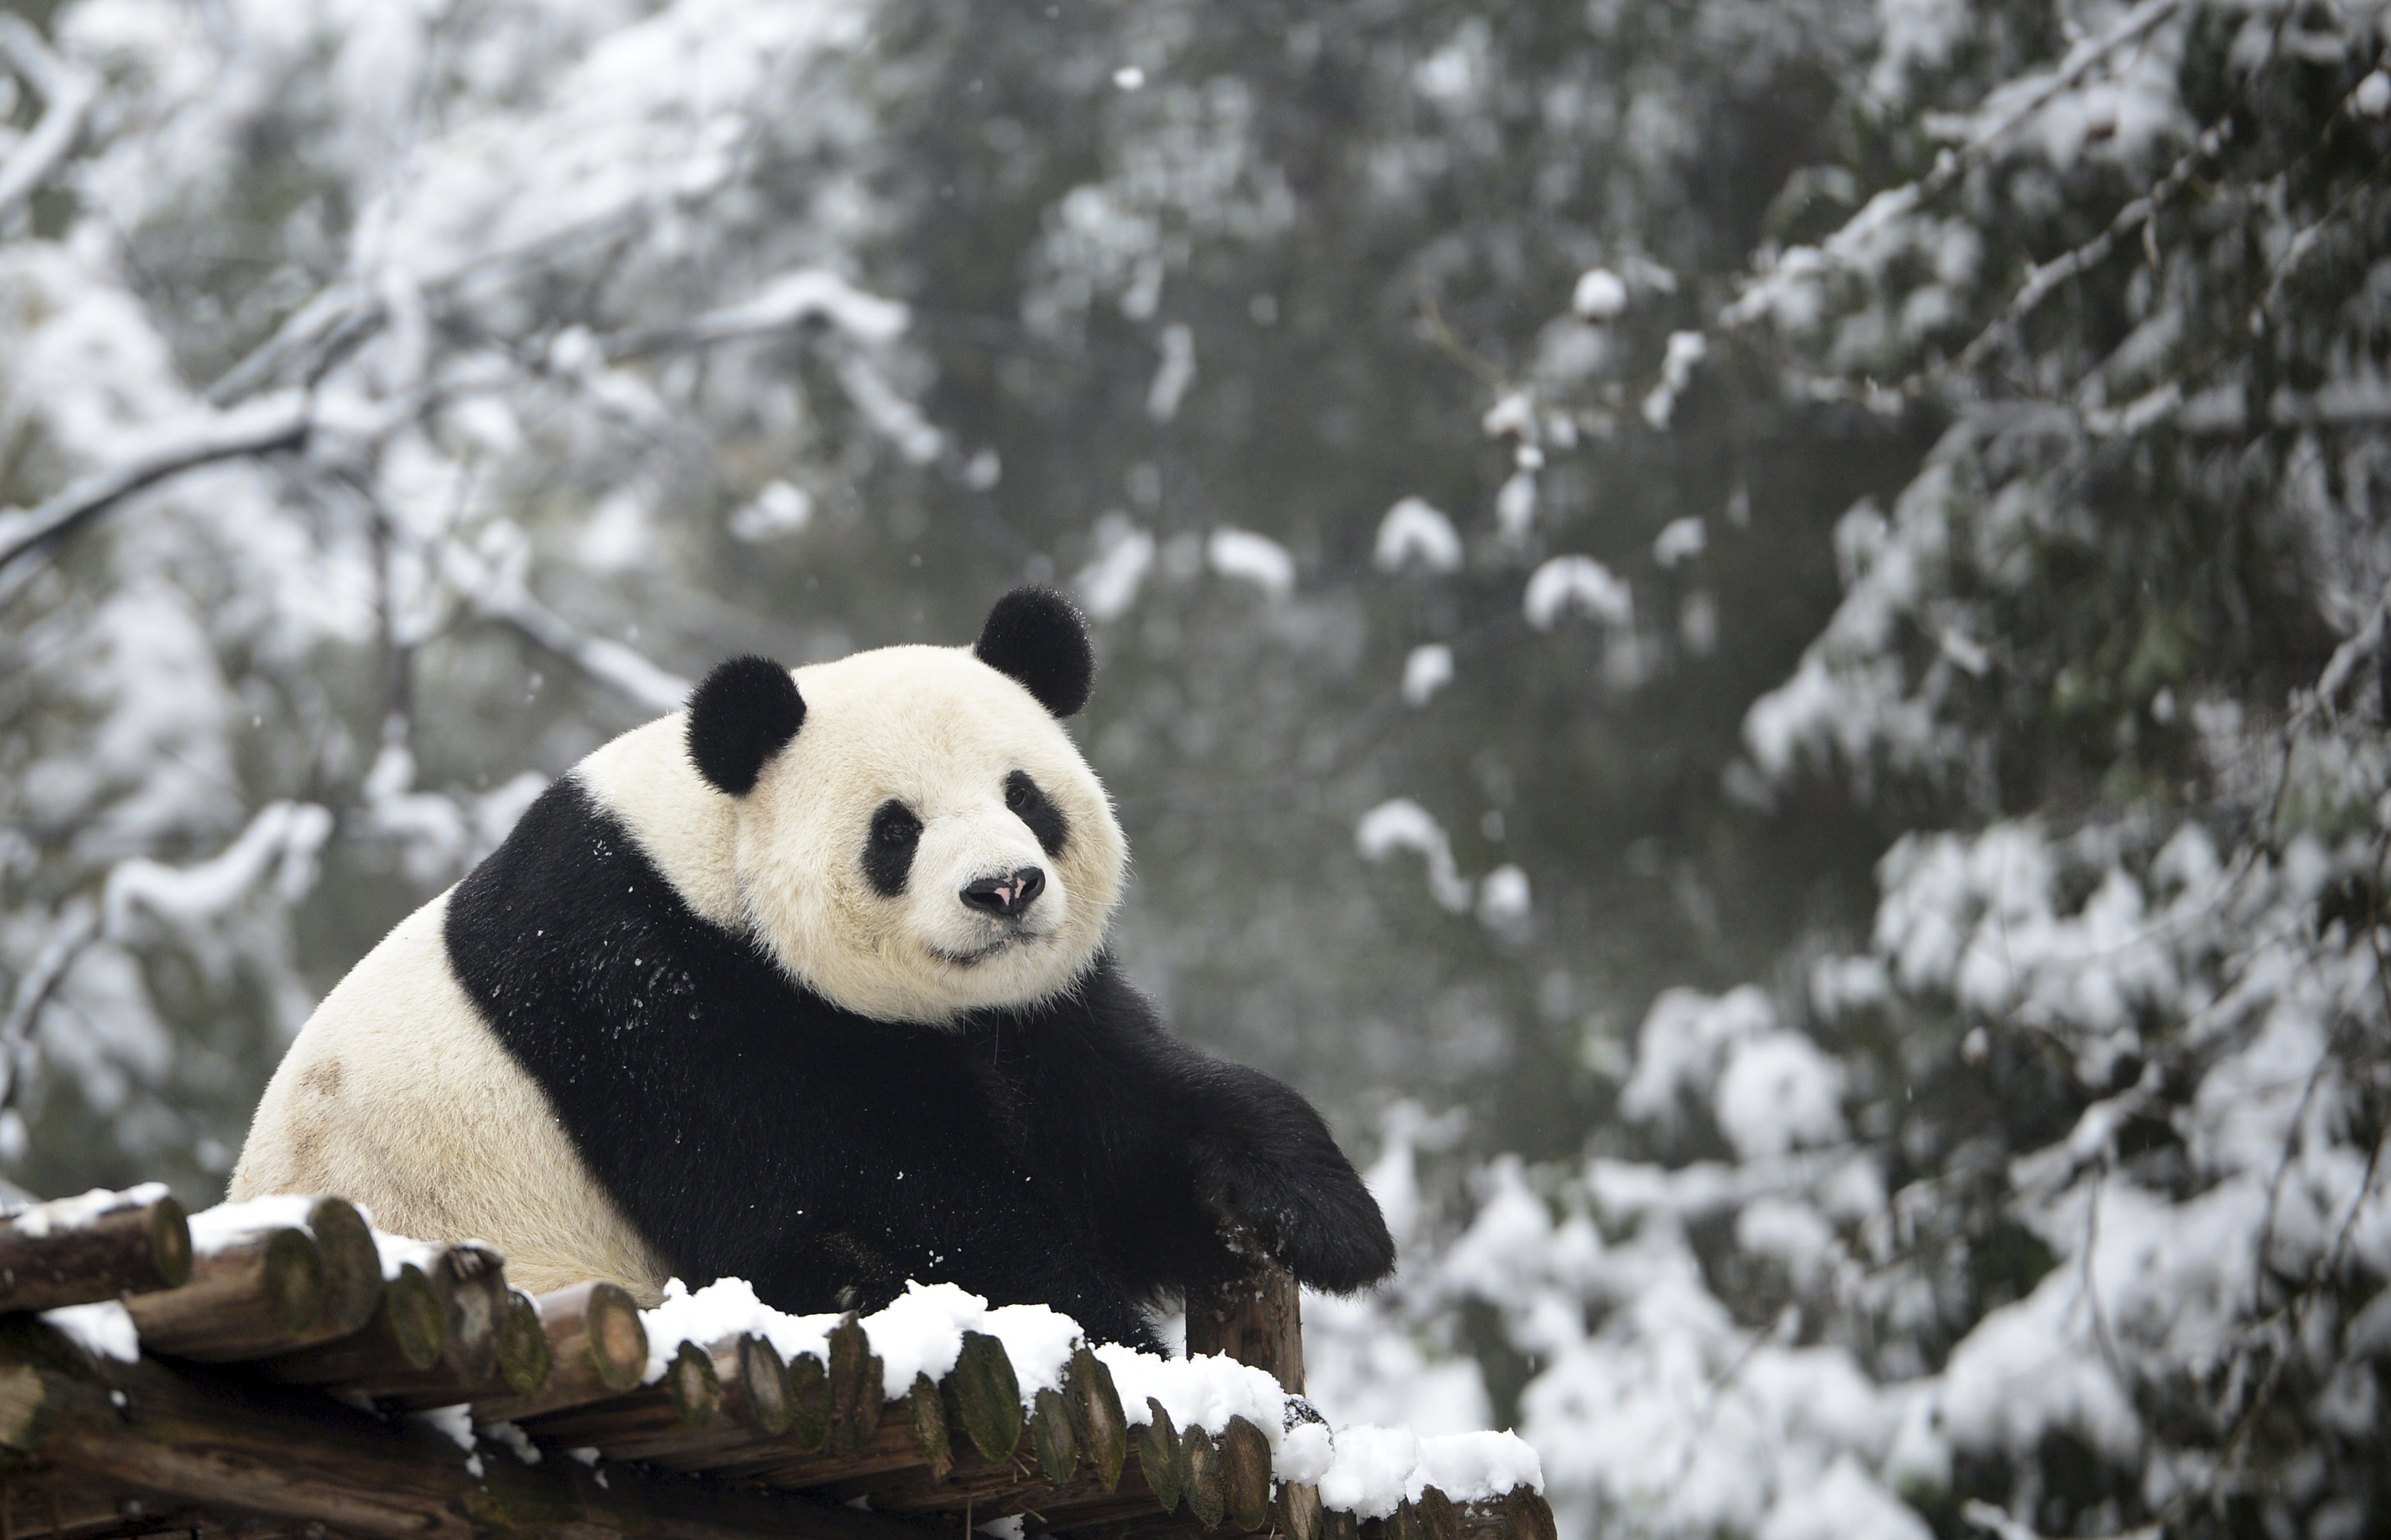panda: (179, 566, 1445, 1411)
